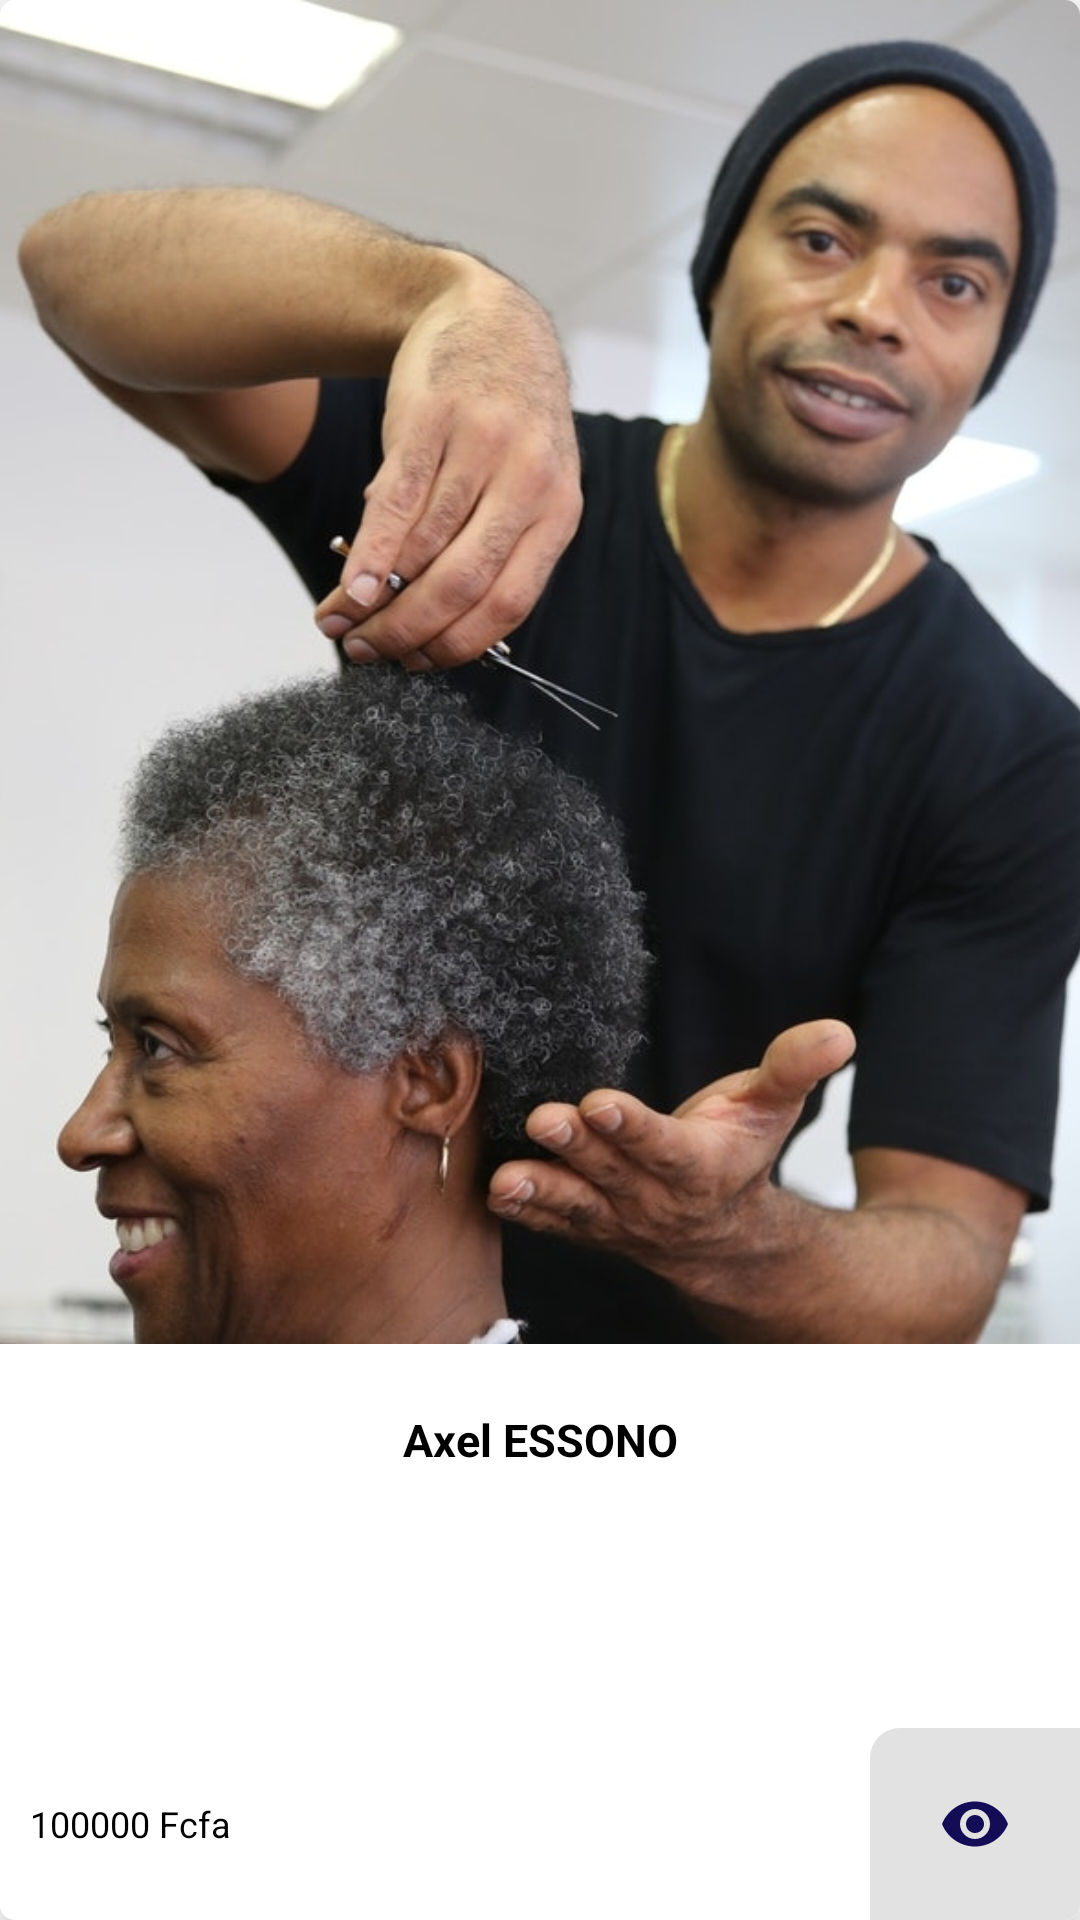

Point at icon controls on the screen. Image size 1080*1920, points as (x,y).
visibility: (975,1824)
